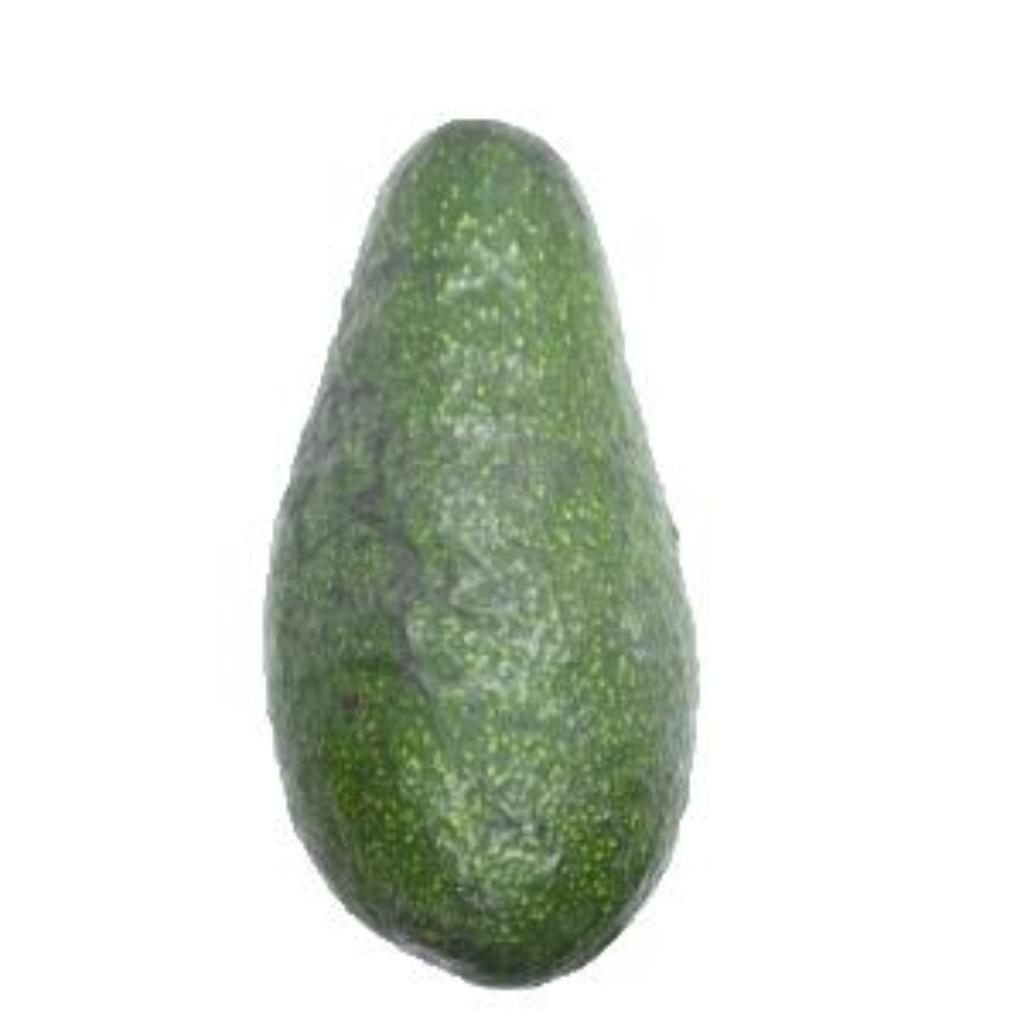cercospora_spot: (254, 114, 708, 996)
